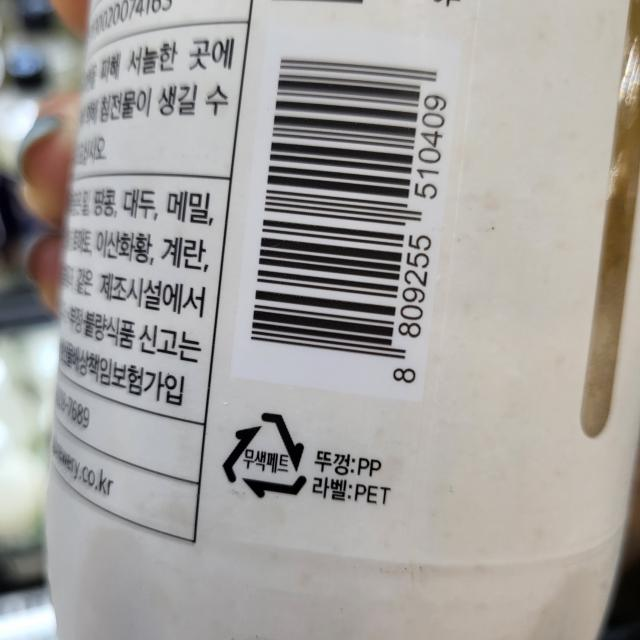ColorlessPET: (220, 408, 310, 502)
